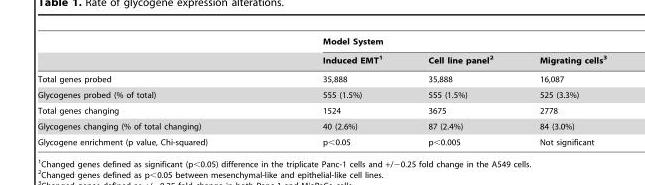table: (37, 36, 606, 146)
table column: (37, 36, 264, 146), (264, 36, 404, 146), (404, 36, 515, 146), (515, 36, 606, 146)
table column header: (37, 36, 606, 69)
table row: (37, 49, 606, 69), (37, 69, 606, 86), (37, 86, 606, 102), (37, 102, 606, 118), (37, 118, 606, 134), (37, 36, 606, 49), (37, 134, 606, 146)
table spanning cell: (264, 36, 606, 49)
